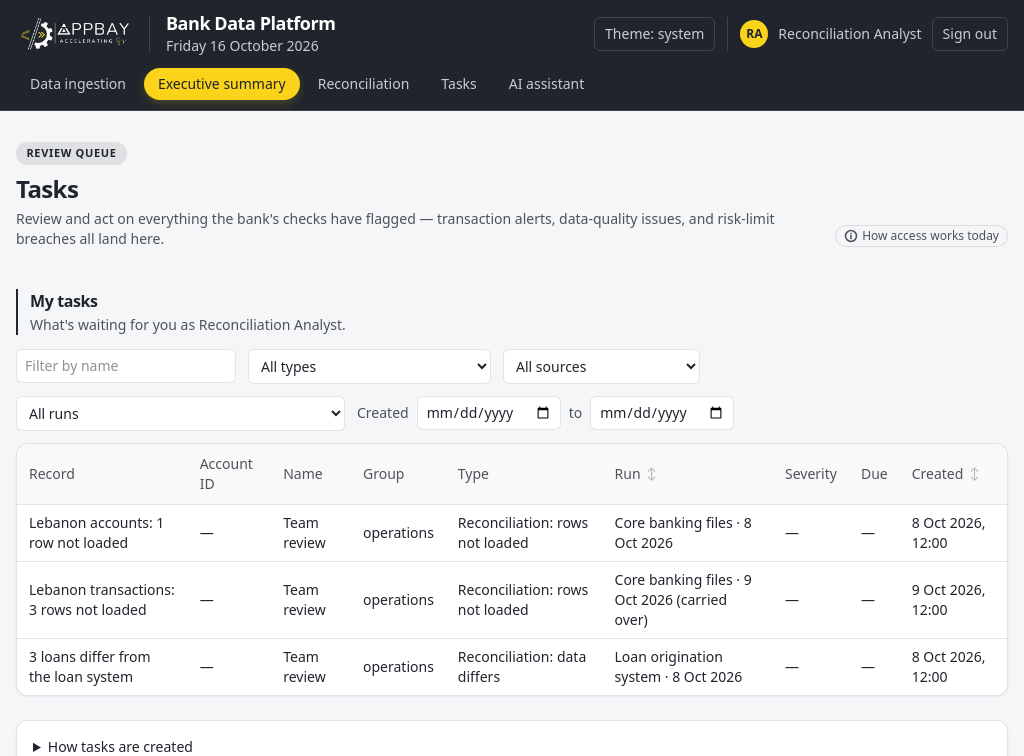
Test case: Tasks: Source and Run filters › clears the run when the source changes, and says plainly when nothing matches
Select "Core banking files" in the dropdown named "Source". click: x=602, y=366
box: [503,349,700,384]
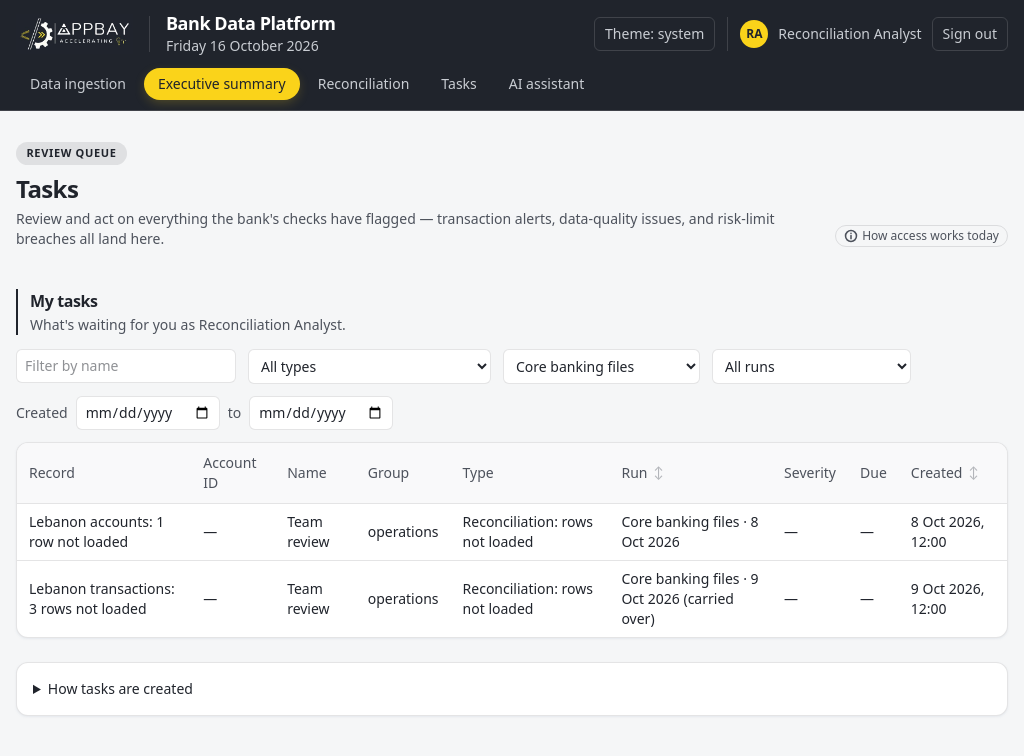
Select "8 Oct 2026" in the dropdown named "Run". click: x=812, y=366
box: [712,349,911,384]
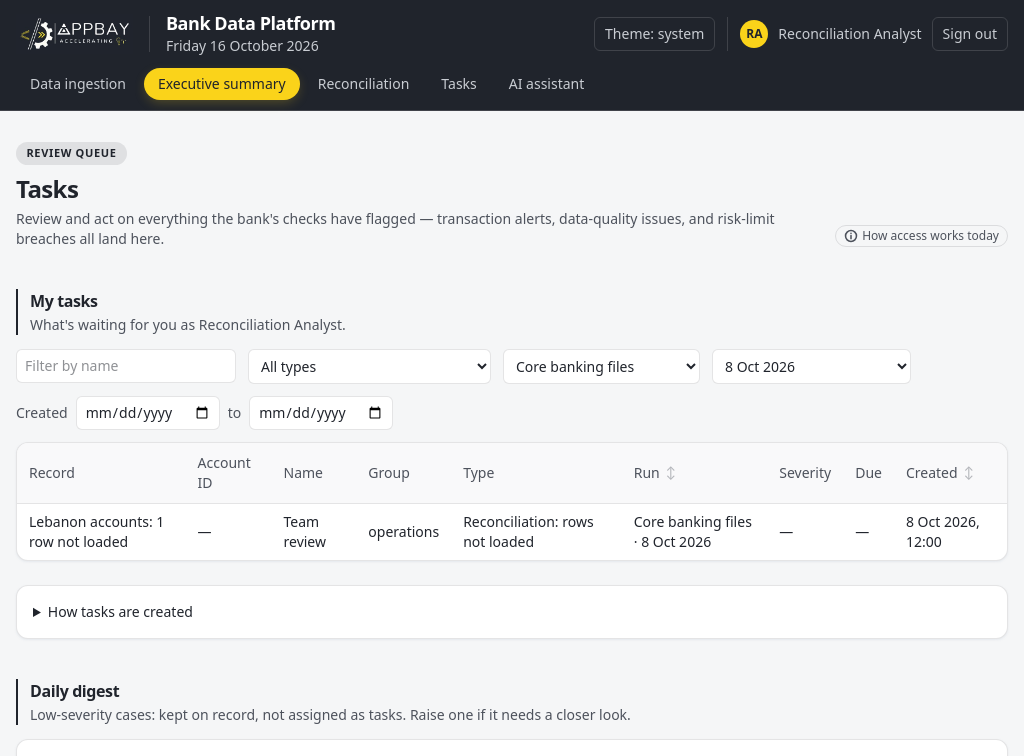
Select "Loan origination system" in the dropdown named "Source". click: x=602, y=366
box: [503,349,700,384]
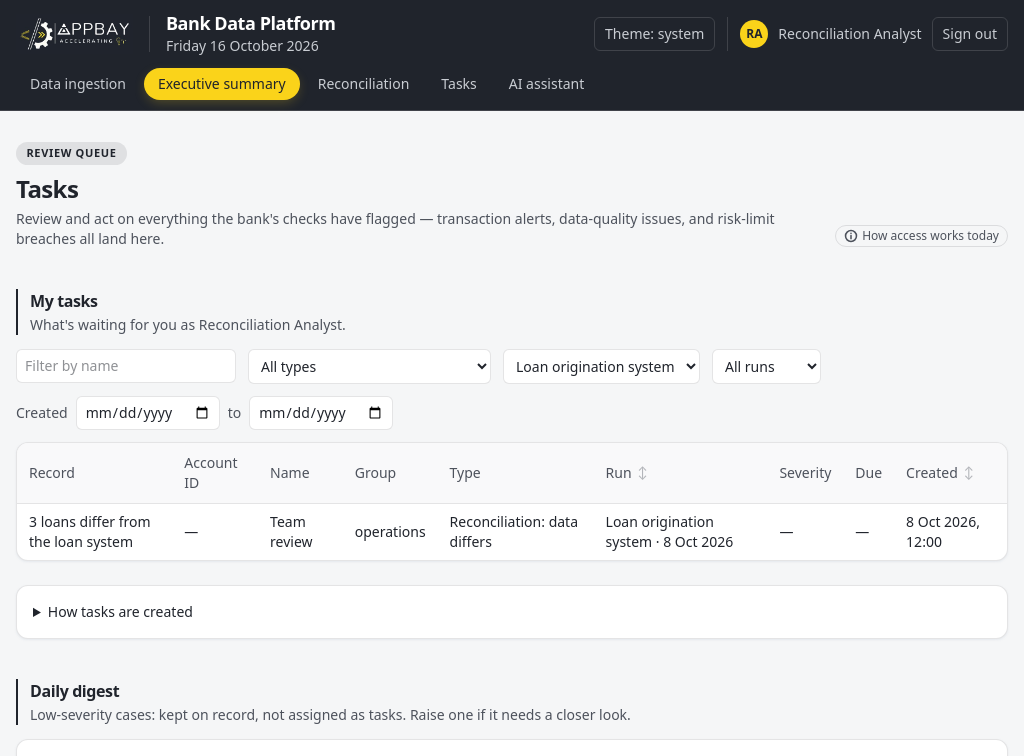
expect the row that starts with "3 loans differ from the loan system" is shown: met, box [29,512,160,552]
Type "2026-10-09" into the date field named "Created from". click: x=148, y=413
box: [76,396,220,430]
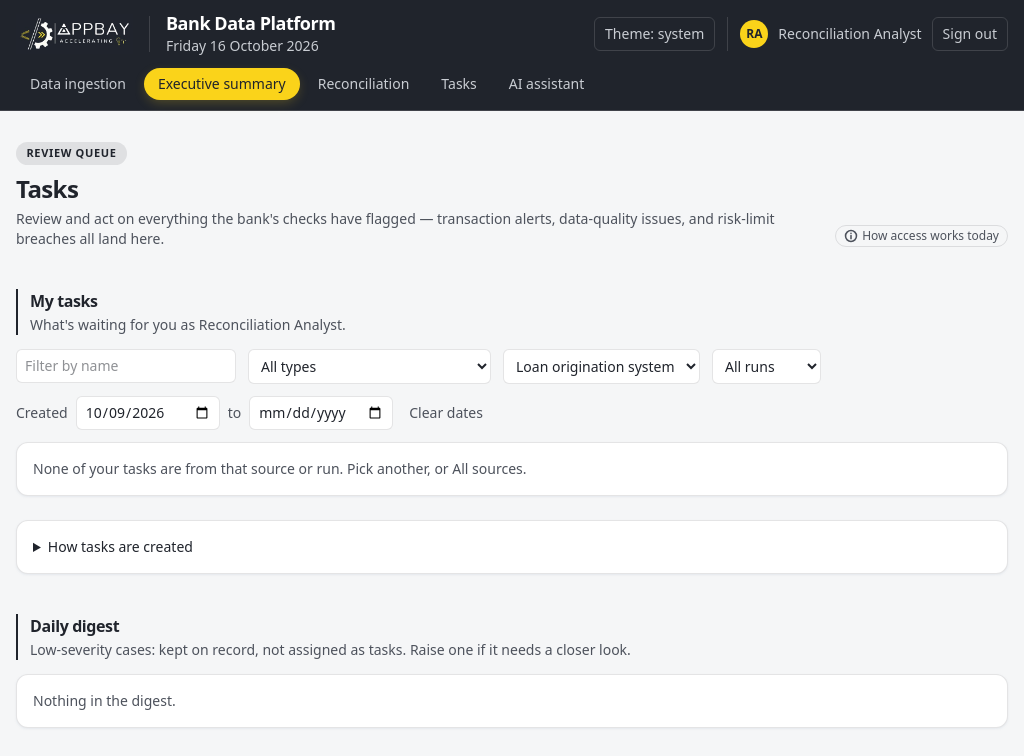
expect the text "None of your tasks are from that source or run" is shown: met, box [33,459,526,478]
